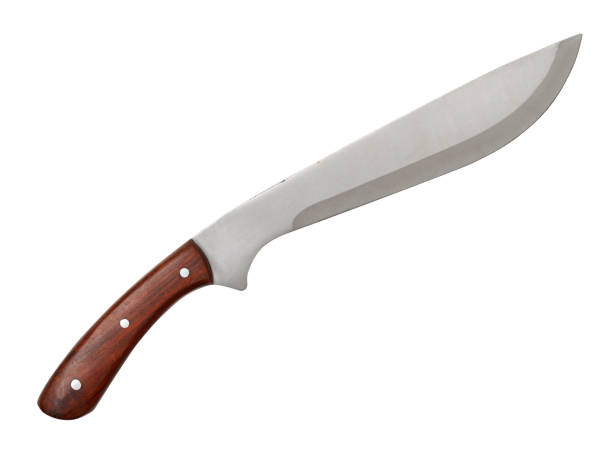knife: (37, 35, 584, 421)
